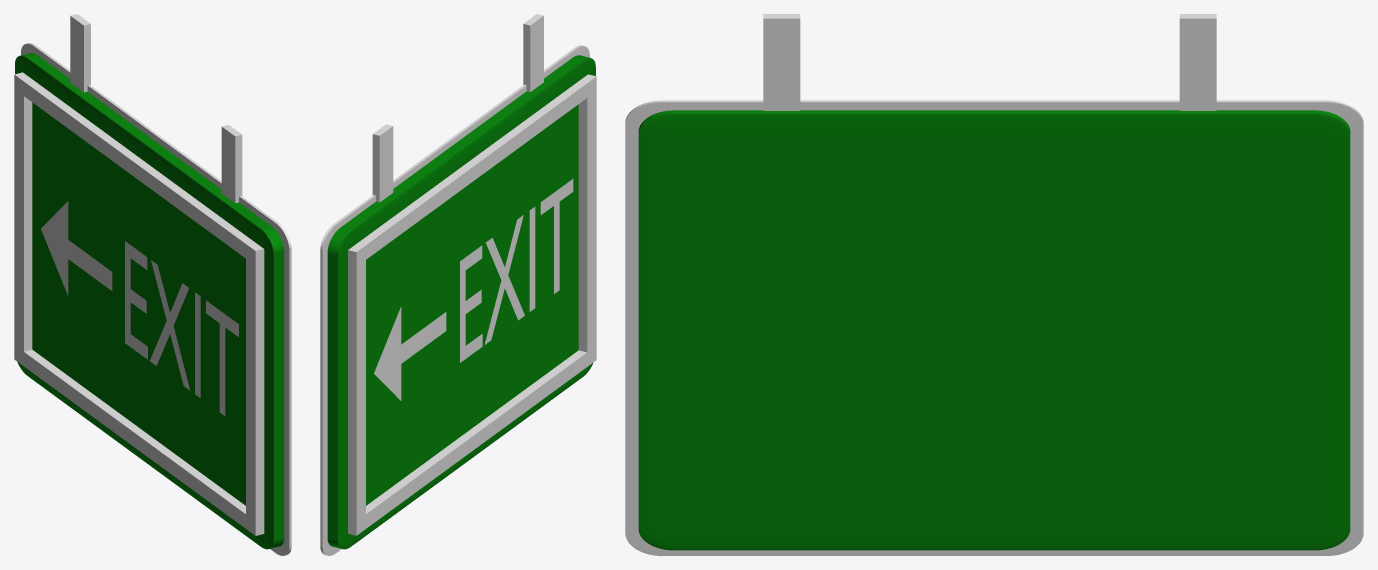
Rendered from Exit left.fbx.
3 views of the same model, side by side, from view 1: azimuth 30°, elevation 25°; view 2: azimuth 150°, elevation 25°; view 3: azimuth 270°, elevation 25° (orthographic). The views are drawn at different scales.
Parts seen in each view (by area): view 1: Cube.212, Cube.211, Cube.210, Text.001, Cube.218, Cube.219, Plane.002, Plane.003; view 2: Cube.212, Cube.211, Cube.210, Text.001, Cube.219, Cube.218, Plane.002, Plane.003; view 3: Cube.212, Cube.210, Cube.218, Cube.219.
Boxes of the visible parts, x1,y1,x2,y2 form: Cube.212: [15, 53, 284, 549]; Cube.211: [14, 72, 264, 535]; Cube.210: [21, 43, 291, 555]; Text.001: [125, 241, 238, 415]; Cube.218: [221, 125, 242, 203]; Cube.219: [70, 14, 90, 92]; Plane.002: [41, 201, 68, 295]; Plane.003: [67, 239, 112, 290]; Cube.212: [327, 55, 595, 549]; Cube.211: [348, 74, 596, 535]; Cube.210: [320, 45, 589, 555]; Text.001: [460, 179, 573, 362]; Cube.219: [372, 124, 393, 202]; Cube.218: [523, 14, 543, 92]; Plane.002: [374, 306, 401, 400]; Plane.003: [401, 312, 446, 363]; Cube.212: [638, 110, 1350, 550]; Cube.210: [625, 100, 1363, 555]; Cube.218: [763, 14, 800, 110]; Cube.219: [1179, 14, 1216, 110].
Bounding box in the file's own units: 10.34 × 139 × 173.
